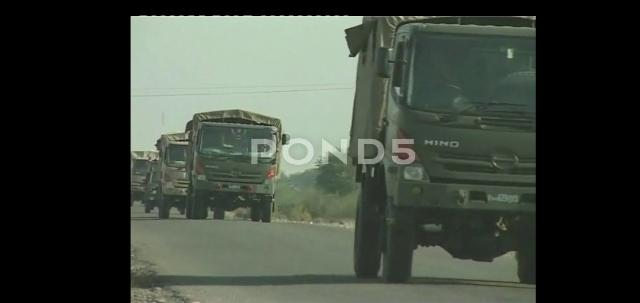plate: (487, 191, 523, 205)
